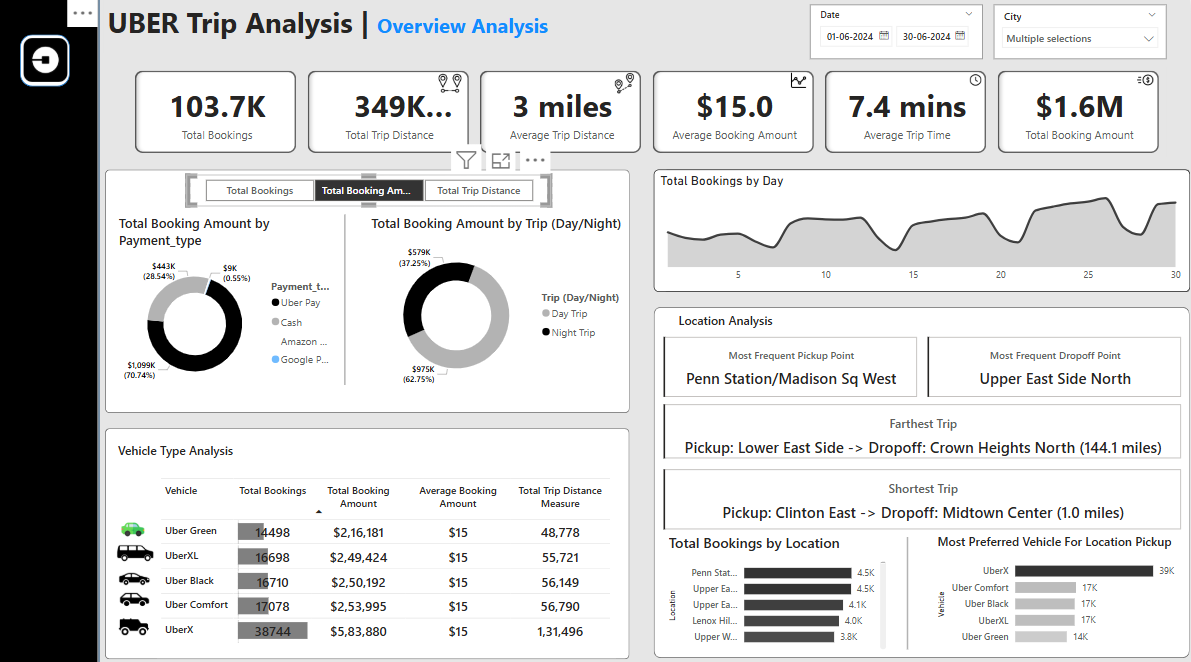

Layout of this report page (visuals, bound fields, positions):
{"tool":"powerbi","page":{"name":"Overview Analysis","canvas":[1600,900],"ordinal":0},"visuals":[{"type":"shape","box":[2.5,0,142.5,900],"z":0},{"type":"textbox","box":[151.3,3.1,940.1,70.3],"z":1000},{"type":"cardVisual","fields":{"Data":["Trip Details.Total Bookings","Trip Details.Total Trip Distance","Trip Details.Average Trip Distance","Trip Details.Average Booking Amount","Trip Details.Average Trip Time","Trip Details.Total Booking Amount"]},"box":[187.5,92.5,1380,120],"z":2000},{"type":"image","box":[1518.3,95,43.3,31.7],"z":3000},{"type":"image","box":[593.3,93.3,40,43.3],"z":4000},{"type":"image","box":[828.3,93.3,36.7,43.3],"z":5000},{"type":"image","box":[1301.7,95,25,31.7],"z":6000},{"type":"shape","box":[152.5,230,700,325],"z":7000},{"type":"image","box":[1061.7,85,33.3,51.7],"z":8000},{"type":"slicer","fields":{"Values":["Dynamic Measure.Dynamic Measure"]},"box":[262,236,486,42],"z":9000},{"type":"donutChart","fields":{"Y":["Trip Details.Total Bookings"],"Category":["Trip Details.Payment_type"]},"box":[166.2,290,300,247.5],"z":10000},{"type":"donutChart","fields":{"Y":["Trip Details.Total Bookings"],"Category":["Trip Details.Trip Type (Day/Night)"]},"box":[502.9,290,347.1,247.1],"z":11000},{"type":"shape","box":[153.3,575,700,308.3],"z":12000},{"type":"pivotTable","fields":{"Rows":["Trip Details.Vehicle"],"Values":["Trip Details.Total Bookings","Trip Details.Total Booking Amount","Trip Details.Average Booking Amount","Trip Details.Total Trip Distance Measure"]},"box":[223.3,636.7,610,245],"z":13000},{"type":"image","box":[143.3,690,95,40],"z":14000},{"type":"image","box":[158.3,778.3,68.3,50],"z":15000},{"type":"image","box":[143.3,748.3,98.3,55],"z":16000},{"type":"image","box":[135,815,113.3,50],"z":17000},{"type":"image","box":[146.7,710,93.3,63.3],"z":18000},{"type":"card","fields":{"Values":["Trip Details.Title Grid"]},"box":[165,588.3,165,36.7],"z":19000},{"type":"shape","box":[900,230,700,163.3],"z":20000},{"type":"areaChart","fields":{"Category":["Calendar Table.Date.Variation.Date Hierarchy.Day"],"Y":["Trip Details.Total Bookings"]},"box":[885,230,715,163.3],"z":21000},{"type":"shape","box":[885,413.3,715,468.3],"z":22000},{"type":"cardVisual","fields":{"Data":["Location Table.Most Frequent Pickup Point","Location Table.Most Frequent Dropoff Point"]},"box":[892.5,447.5,700,90],"z":23000},{"type":"cardVisual","fields":{"Data":["Location Table.Farthest Trip"]},"box":[892.5,537.5,700,82.5],"z":24000},{"type":"cardVisual","fields":{"Data":["Location Table.Smallest Trip"]},"box":[892.5,625,700,90],"z":25000},{"type":"barChart","fields":{"Y":["Trip Details.Total Bookings"],"Category":["Location Table.Location"]},"box":[900,715,300,160],"z":26000},{"type":"barChart","title":"Most Preferred Vehicle For Location Pickup","fields":{"Category":["Trip Details.Vehicle"],"Y":["CountNonNull(Trip Details.PULocationID)"]},"box":[1257.5,715,335,160],"z":27000},{"type":"shape","box":[322.5,290,300,227.5],"z":28000},{"type":"shape","box":[1072.5,720,300,150],"z":29000},{"type":"card","fields":{"Values":["Trip Details.Title Grid 1"]},"box":[897.5,420,165,27.5],"z":30000},{"type":"slicer","fields":{"Values":["Calendar Table.Date"]},"box":[1092.5,10,230,72.5],"z":31000},{"type":"slicer","fields":{"Values":["Location Table.City"]},"box":[1337.5,10,230,72.5],"z":32000},{"type":"shape","box":[40.7,49.8,66.4,69.4],"z":33000},{"type":"image","box":[40.7,49.8,67.9,67.9],"z":34000}]}

Visuals, with their boxes on the page's 1600x900 design canvas (x1, y1, x2, y2). These are canvas units, not pixel positions in the 1191x662 screenshot, which may show the page scaled, cropped or inside an application window:
shape: <bbox>2, 0, 145, 900</bbox>
textbox: <bbox>151, 3, 1091, 73</bbox>
cardVisual - Trip Details.Total Bookings x Trip Details.Total Trip Distance: <bbox>188, 92, 1568, 212</bbox>
image: <bbox>1518, 95, 1562, 127</bbox>
image: <bbox>593, 93, 633, 137</bbox>
image: <bbox>828, 93, 865, 137</bbox>
image: <bbox>1302, 95, 1327, 127</bbox>
shape: <bbox>152, 230, 852, 555</bbox>
image: <bbox>1062, 85, 1095, 137</bbox>
slicer - Dynamic Measure.Dynamic Measure: <bbox>262, 236, 748, 278</bbox>
donutChart - Trip Details.Total Bookings x Trip Details.Payment_type: <bbox>166, 290, 466, 538</bbox>
donutChart - Trip Details.Total Bookings x Trip Details.Trip Type (Day/Night): <bbox>503, 290, 850, 537</bbox>
shape: <bbox>153, 575, 853, 883</bbox>
pivotTable - Trip Details.Vehicle x Trip Details.Total Bookings: <bbox>223, 637, 833, 882</bbox>
image: <bbox>143, 690, 238, 730</bbox>
image: <bbox>158, 778, 227, 828</bbox>
image: <bbox>143, 748, 242, 803</bbox>
image: <bbox>135, 815, 248, 865</bbox>
image: <bbox>147, 710, 240, 773</bbox>
card - Trip Details.Title Grid: <bbox>165, 588, 330, 625</bbox>
shape: <bbox>900, 230, 1600, 393</bbox>
areaChart - Calendar Table.Date.Variation.Date Hierarchy.Day x Trip Details.Total Bookings: <bbox>885, 230, 1600, 393</bbox>
shape: <bbox>885, 413, 1600, 882</bbox>
cardVisual - Location Table.Most Frequent Pickup Point x Location Table.Most Frequent Dropoff Point: <bbox>892, 448, 1592, 538</bbox>
cardVisual - Location Table.Farthest Trip: <bbox>892, 538, 1592, 620</bbox>
cardVisual - Location Table.Smallest Trip: <bbox>892, 625, 1592, 715</bbox>
barChart - Trip Details.Total Bookings x Location Table.Location: <bbox>900, 715, 1200, 875</bbox>
"Most Preferred Vehicle For Location Pickup" barChart: <bbox>1258, 715, 1592, 875</bbox>
shape: <bbox>322, 290, 622, 518</bbox>
shape: <bbox>1072, 720, 1372, 870</bbox>
card - Trip Details.Title Grid 1: <bbox>898, 420, 1062, 448</bbox>
slicer - Calendar Table.Date: <bbox>1092, 10, 1322, 82</bbox>
slicer - Location Table.City: <bbox>1338, 10, 1568, 82</bbox>
shape: <bbox>41, 50, 107, 119</bbox>
image: <bbox>41, 50, 109, 118</bbox>
